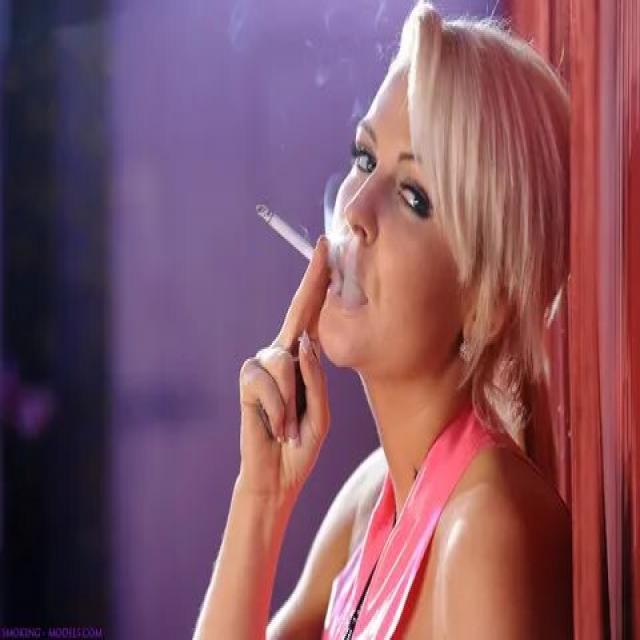smoke: (256, 198, 319, 264)
